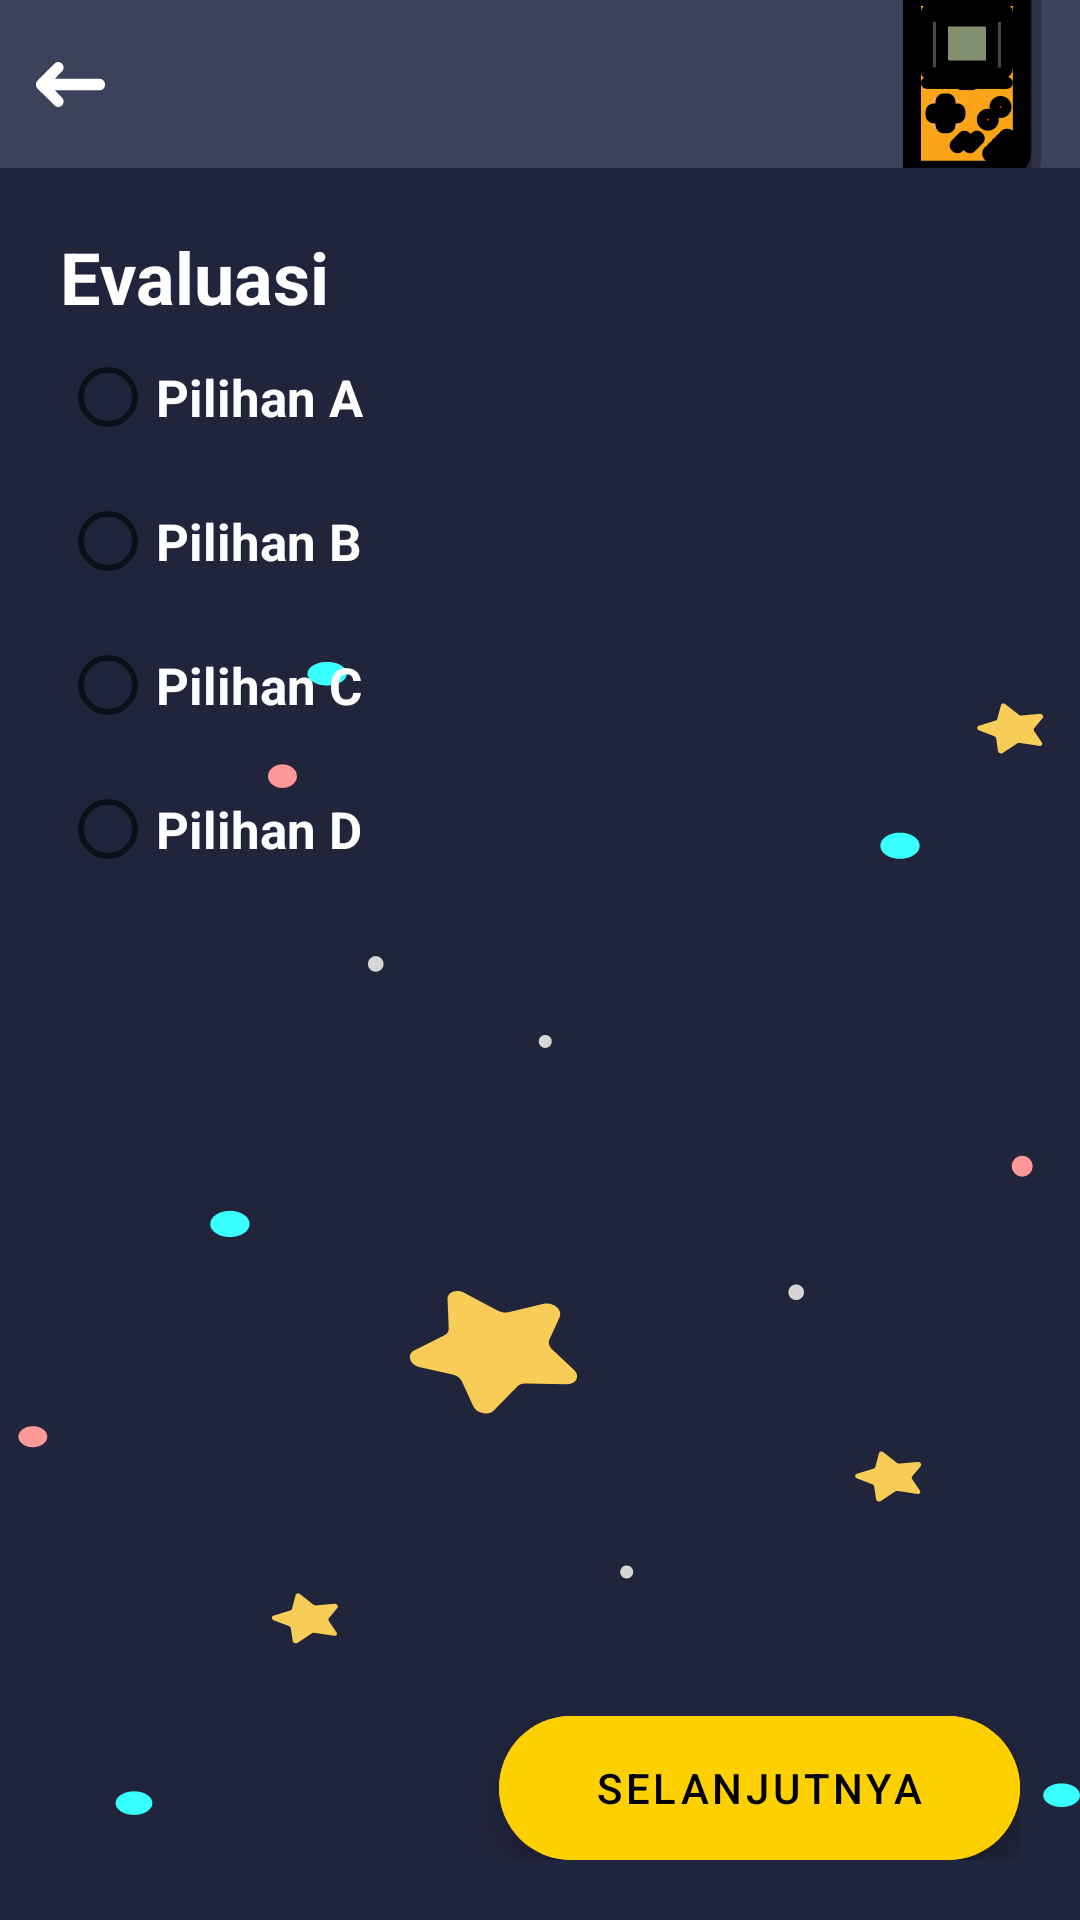

Icon click points for this 1080 × 1920 phone screenshot, format point (x, y):
arrow left: point (70, 84)
portablegame: point (973, 84)
